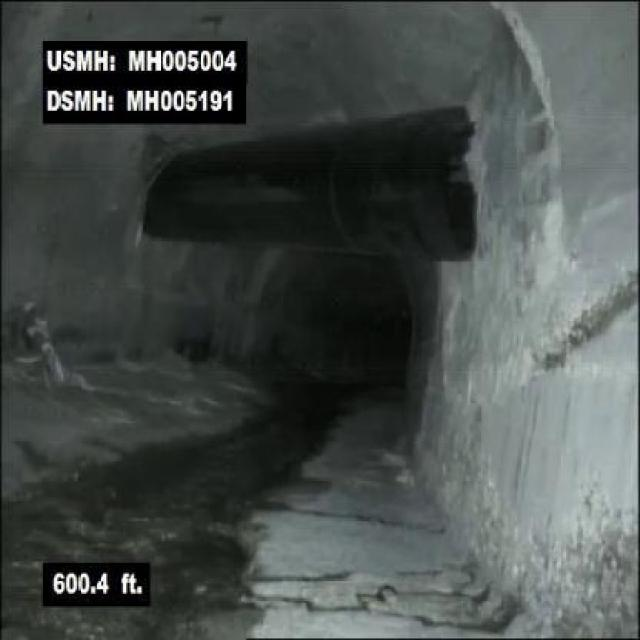Crack: (272, 518, 505, 637), (531, 243, 638, 377)
Utility intrusion: (134, 100, 483, 268)
